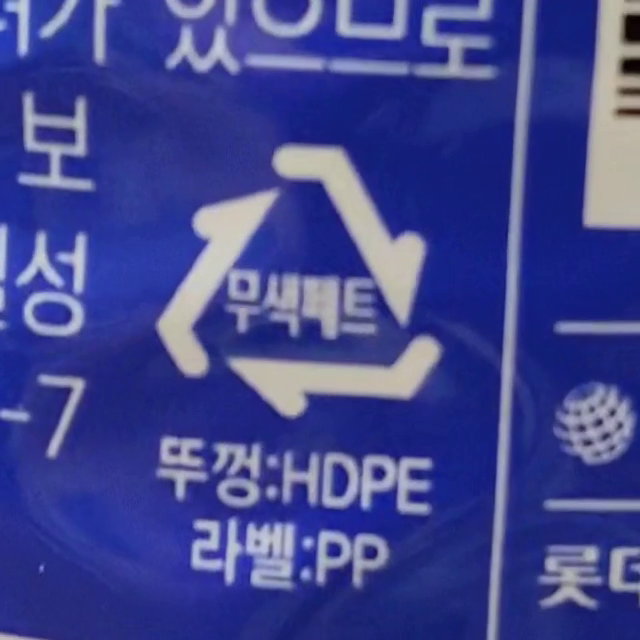ColorlessPet: (150, 143, 446, 418)
